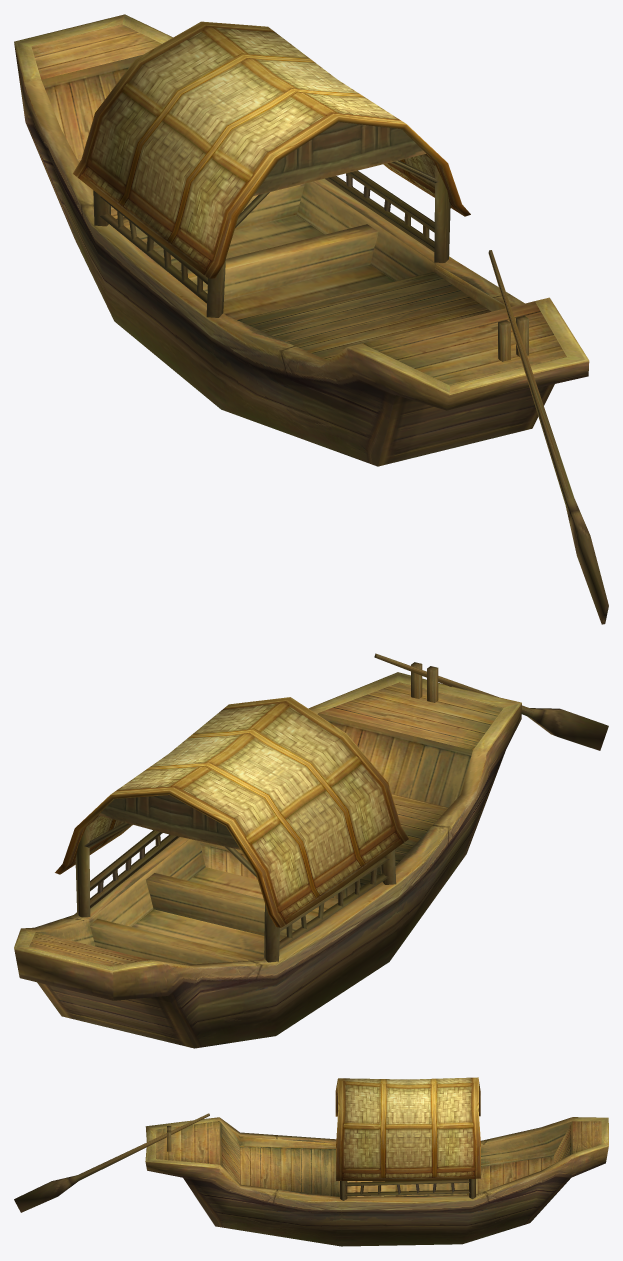
Rendered from chuan_001.FBX.
The picture shows the model from 3 angles, top to bottom: view 1: azimuth 30°, elevation 25°; view 2: azimuth 150°, elevation 25°; view 3: azimuth 270°, elevation 25°; orthographic projection. The views are drawn at different scales.
Parts seen in each view (by area): view 1: chuan_001; view 2: chuan_001; view 3: chuan_001.
Part boxes in pixels (x1,y1,x2,y2): chuan_001: [14, 14, 608, 624]; chuan_001: [14, 653, 608, 1048]; chuan_001: [14, 1077, 608, 1246].
Bounding box in the file's own units: 529 × 528 × 2008.
